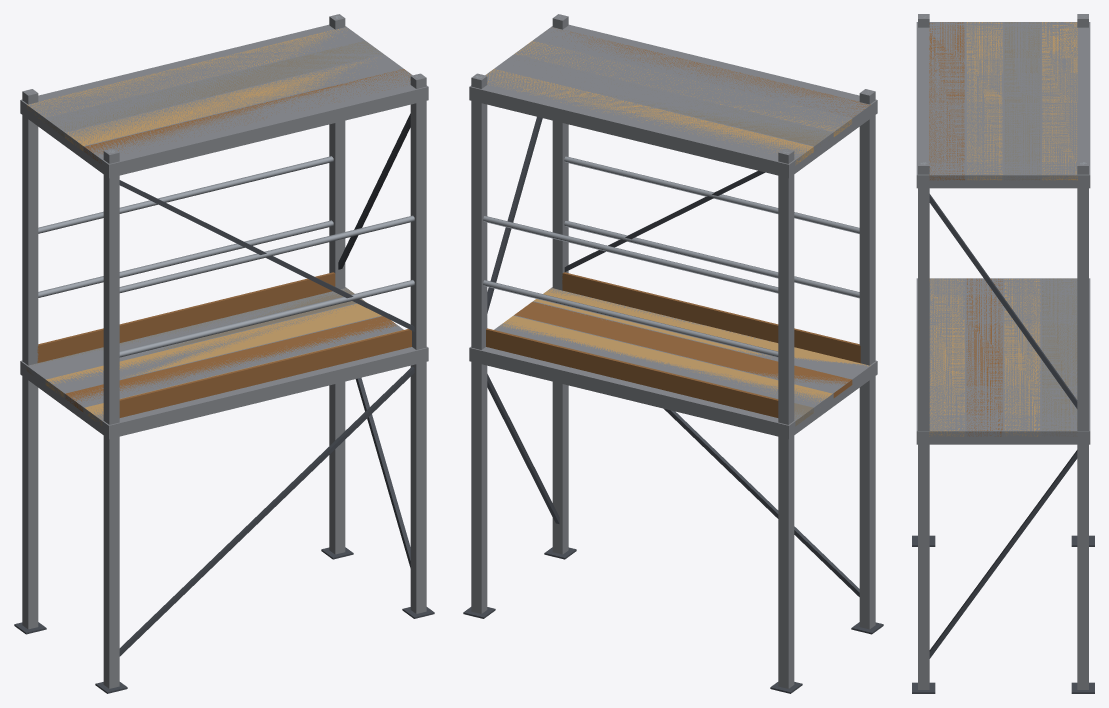
Rendered from prop_scaffold.glb.
3 renders of one model, left to right at view 1: azimuth 30°, elevation 25°; view 2: azimuth 150°, elevation 25°; view 3: azimuth 270°, elevation 25°, orthographic.
Parts seen in each view (by area): view 1: prop_scaffold__col, prop_scaffold__mesh; view 2: prop_scaffold__col, prop_scaffold__mesh; view 3: prop_scaffold__col, prop_scaffold__mesh.
Boxes of the visible parts, x1,y1,x2,y2 form: prop_scaffold__col: (20, 14, 428, 688); prop_scaffold__mesh: (14, 16, 434, 693); prop_scaffold__col: (469, 14, 877, 688); prop_scaffold__mesh: (463, 16, 883, 693); prop_scaffold__col: (916, 14, 1090, 689); prop_scaffold__mesh: (912, 16, 1094, 693).
Bounding box in the file's own units: 2.56 × 4 × 1.26.
Materials: 1 (1 with a texture image).
